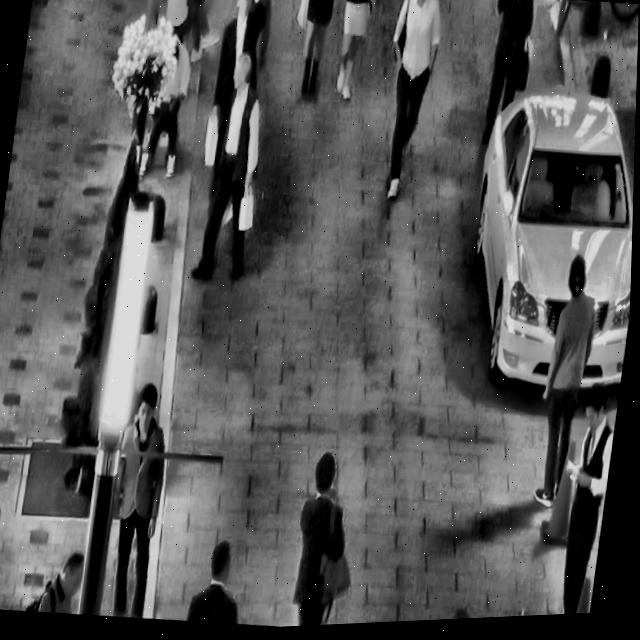light_vehicle: (449, 68, 638, 414)
